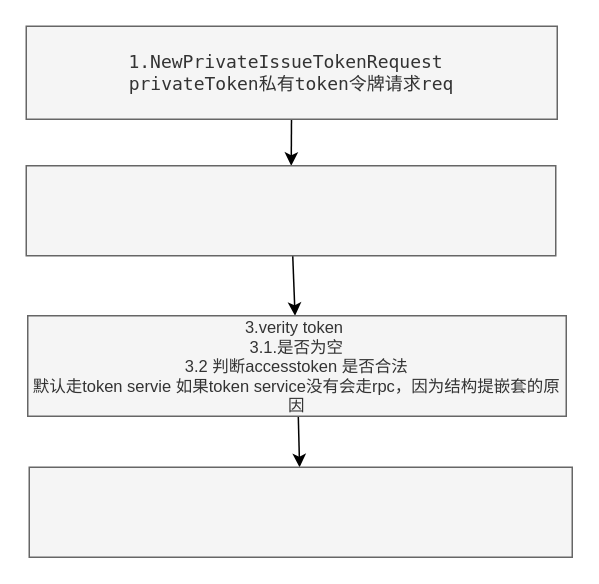
Some shapes in this 599 by 584 pixel diagram are drawn without their labels. The centre of each missing label's shape, as x and y in pixels:
"2. IssueToken 颁发token 先到注册器中拉取实现，最好写个接口约束" belongs at (x=290, y=210).
"4.判断结构体是否非法 5.从mongdb中查询accesstoken是否存在" belongs at (x=300, y=511).
